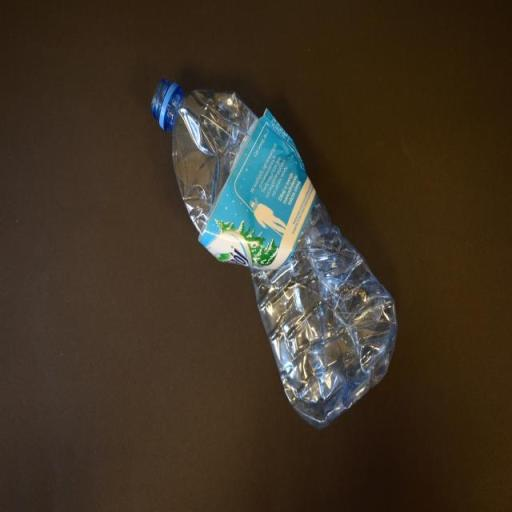plastic: (149, 74, 400, 432)
